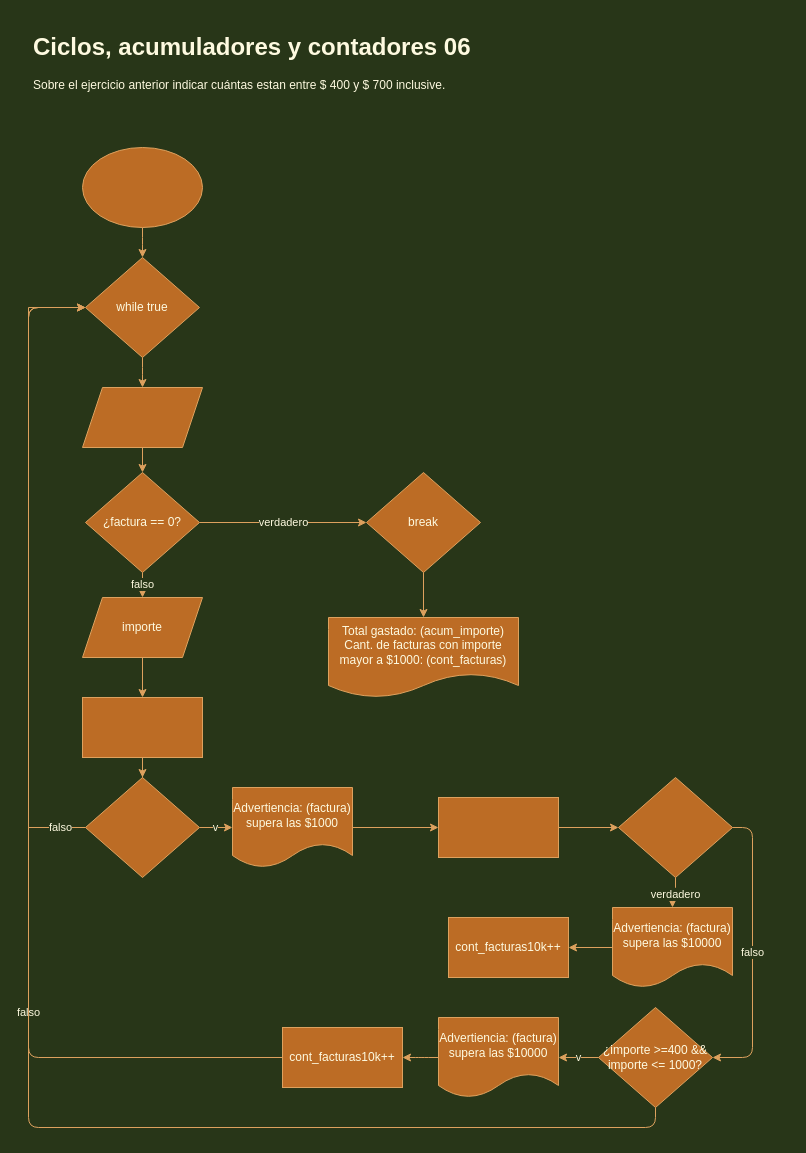
Some shapes in this 806 by 1153 pixel diagram are drawn without their labels. The box of each missing label's shape, as (x1, y1, x2, y2) in pixels:
acum_importe += importe: (82, 696, 202, 758)
cont_facturas_1k++: (438, 796, 558, 858)
inicio: (82, 146, 202, 228)
numero_factura: (82, 386, 202, 448)
¿importe > 10000?: (618, 776, 732, 878)
¿importe > 1000?: (84, 776, 200, 878)
